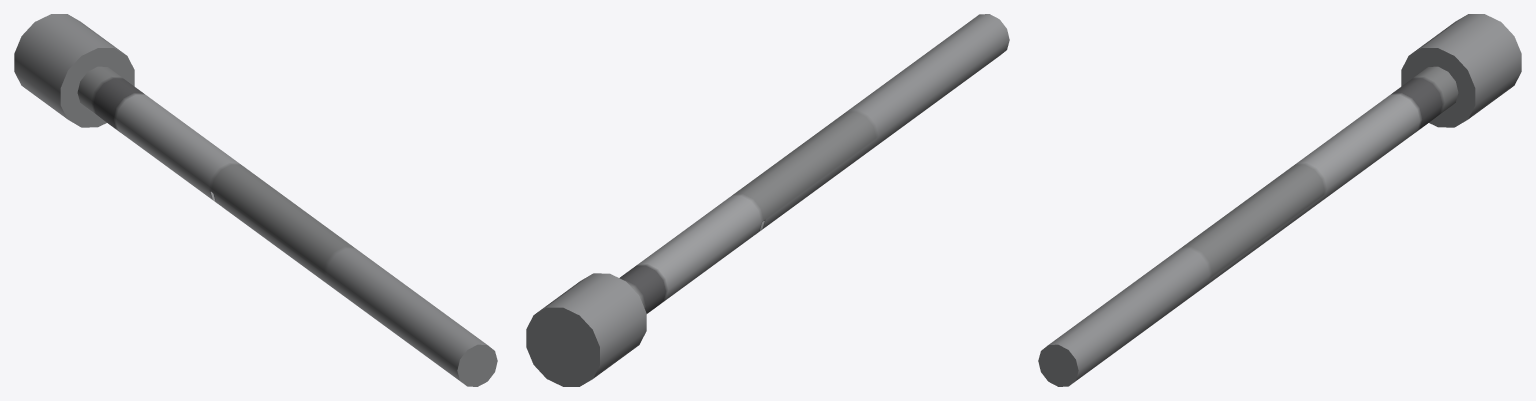
3 renders of one model, left to right at view 1: azimuth 30°, elevation 25°; view 2: azimuth 150°, elevation 25°; view 3: azimuth 330°, elevation 25°, orthographic.
Bounding box in the file's own units: 0.2638 × 0.2706 × 2.64.
